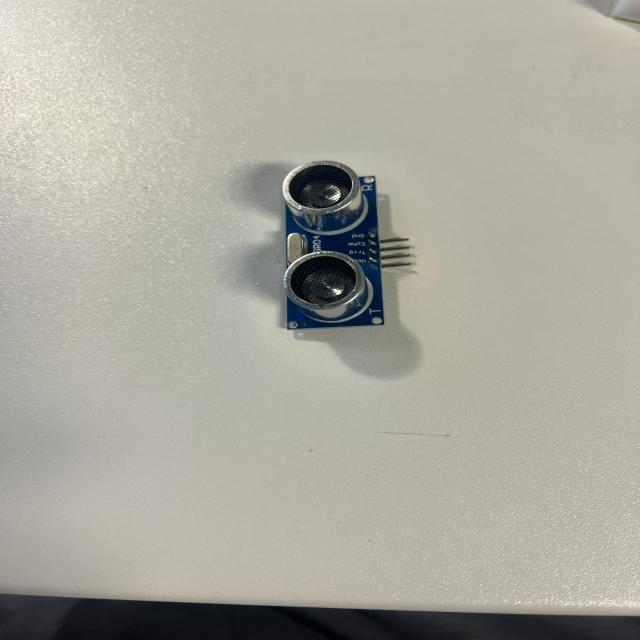UltrasoneSensor: (267, 141, 429, 355)
